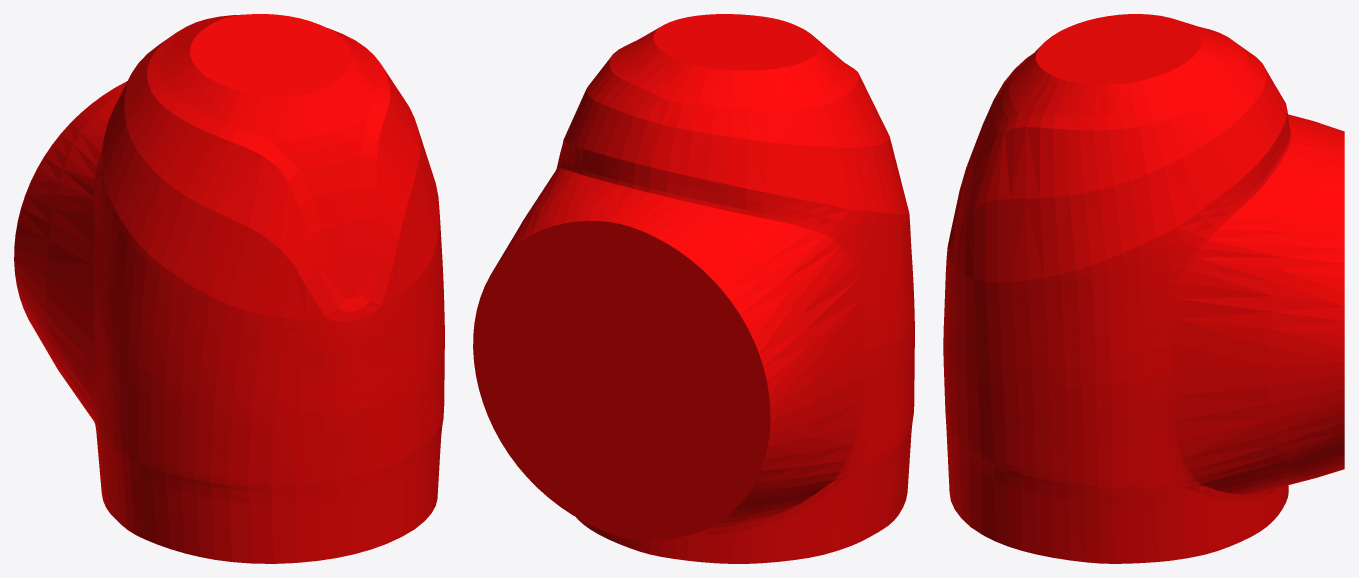
The picture shows the model from 3 angles, left to right: view 1: azimuth 30°, elevation 25°; view 2: azimuth 150°, elevation 25°; view 3: azimuth 270°, elevation 25°; orthographic projection. The views are drawn at different scales.
Parts seen in each view (by area): view 1: MF0609_1_0; view 2: MF0609_1_0; view 3: MF0609_1_0.
Part boxes in pixels (x1,y1,x2,y2): MF0609_1_0: (14,14,444,563); MF0609_1_0: (473,14,914,563); MF0609_1_0: (943,14,1344,563).
Bounding box in the file's own units: 140 × 155 × 192.
